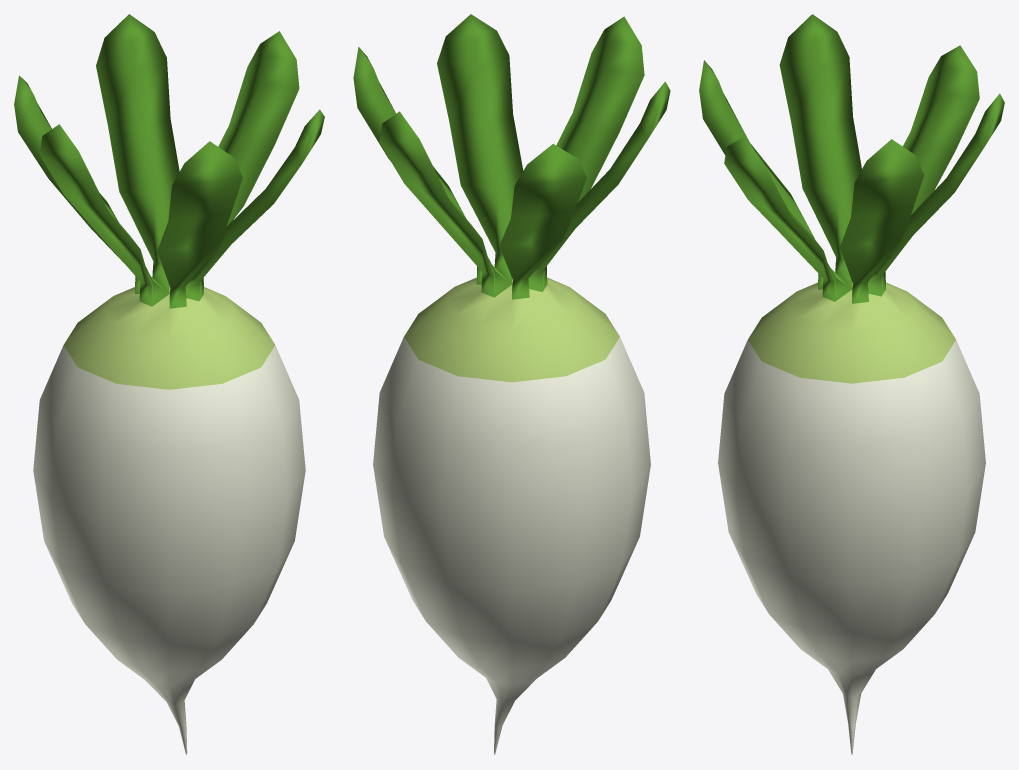
The model's file is NEW_RECOVERY_062_LOD2.glb.
3 views of the same model, side by side, from view 1: azimuth 30°, elevation 25°; view 2: azimuth 150°, elevation 25°; view 3: azimuth 270°, elevation 25° (orthographic). The views are drawn at different scales.
Parts seen in each view (by area): view 1: Whole_Radish; view 2: Whole_Radish; view 3: Whole_Radish.
Part boxes in pixels (x1,y1,x2,y2): Whole_Radish: (14, 14, 324, 755); Whole_Radish: (353, 14, 670, 755); Whole_Radish: (699, 14, 1004, 754).
Bounding box in the file's own units: 0.7188 × 1.74 × 0.7188.
